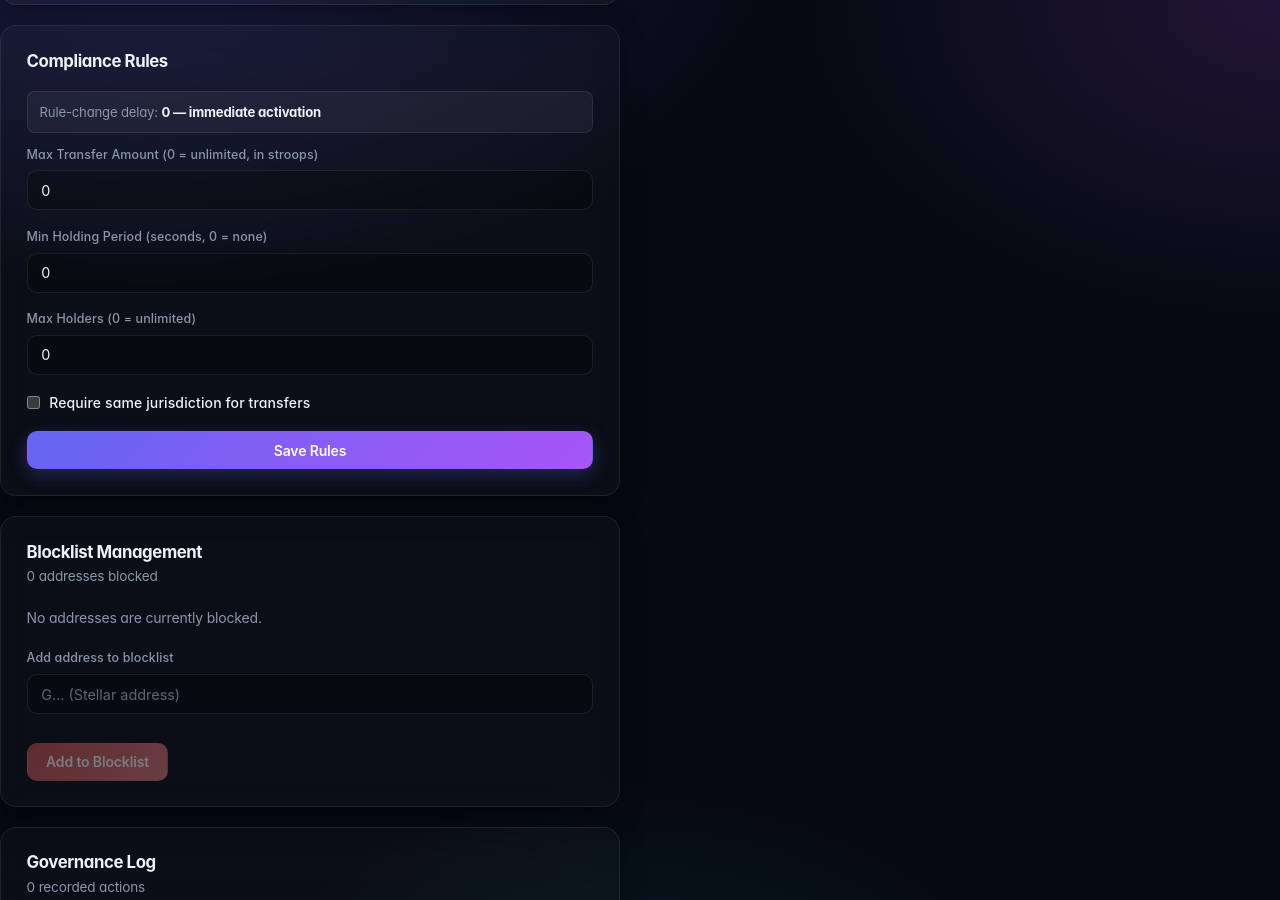
Scenario: AdminPage – compliance rules form › cancelling the dialog removes it from the DOM
(page scrolled)
What coordinates should you click on to do the following:
click the button "Save Rules"
I would click on:
 (310, 450)
Its box is [27,431,593,469].
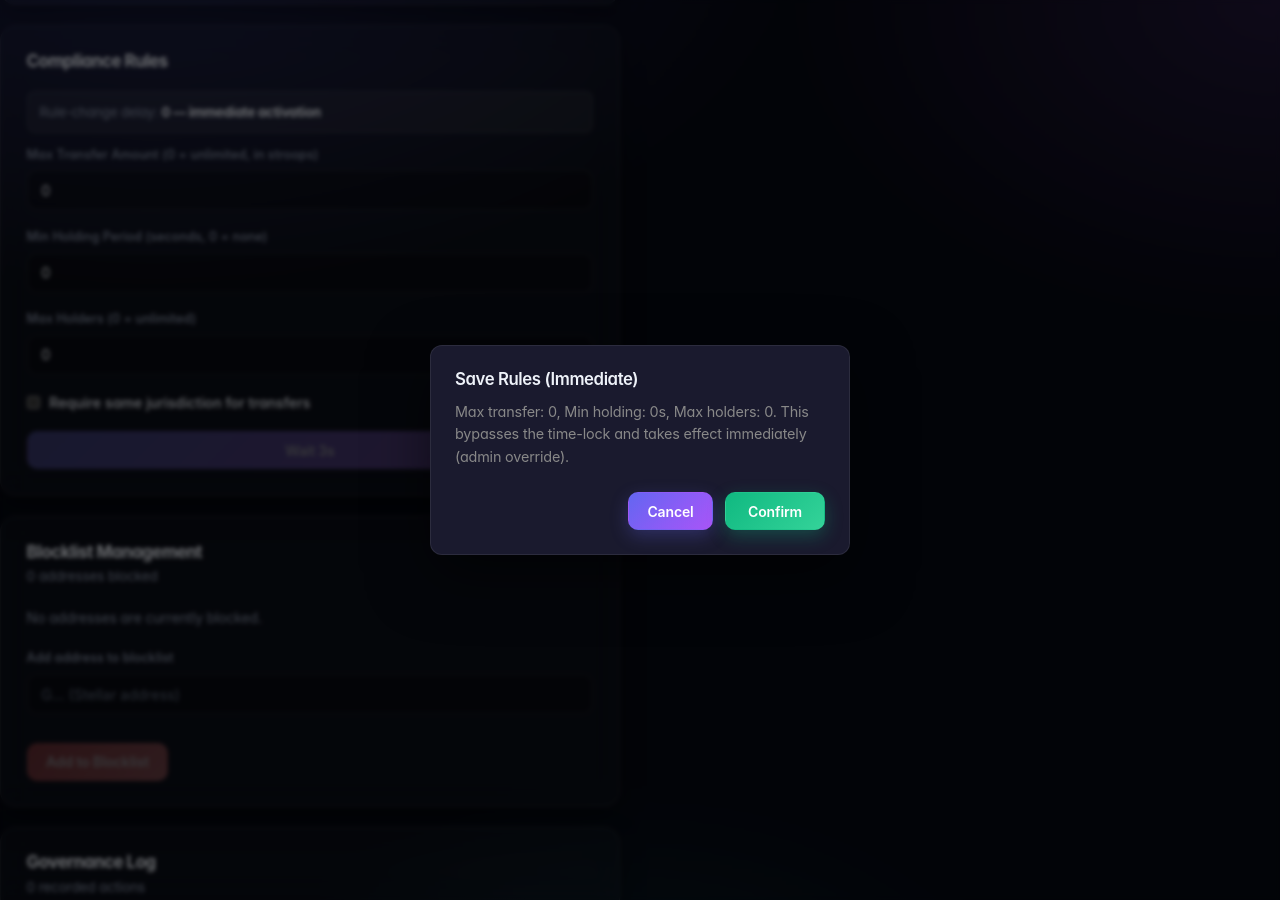
Result: the dialog is shown
What coordinates should you click on to do the following:
click the button "Cancel"
I would click on:
 (670, 511)
Its box is [628,492,713,530].
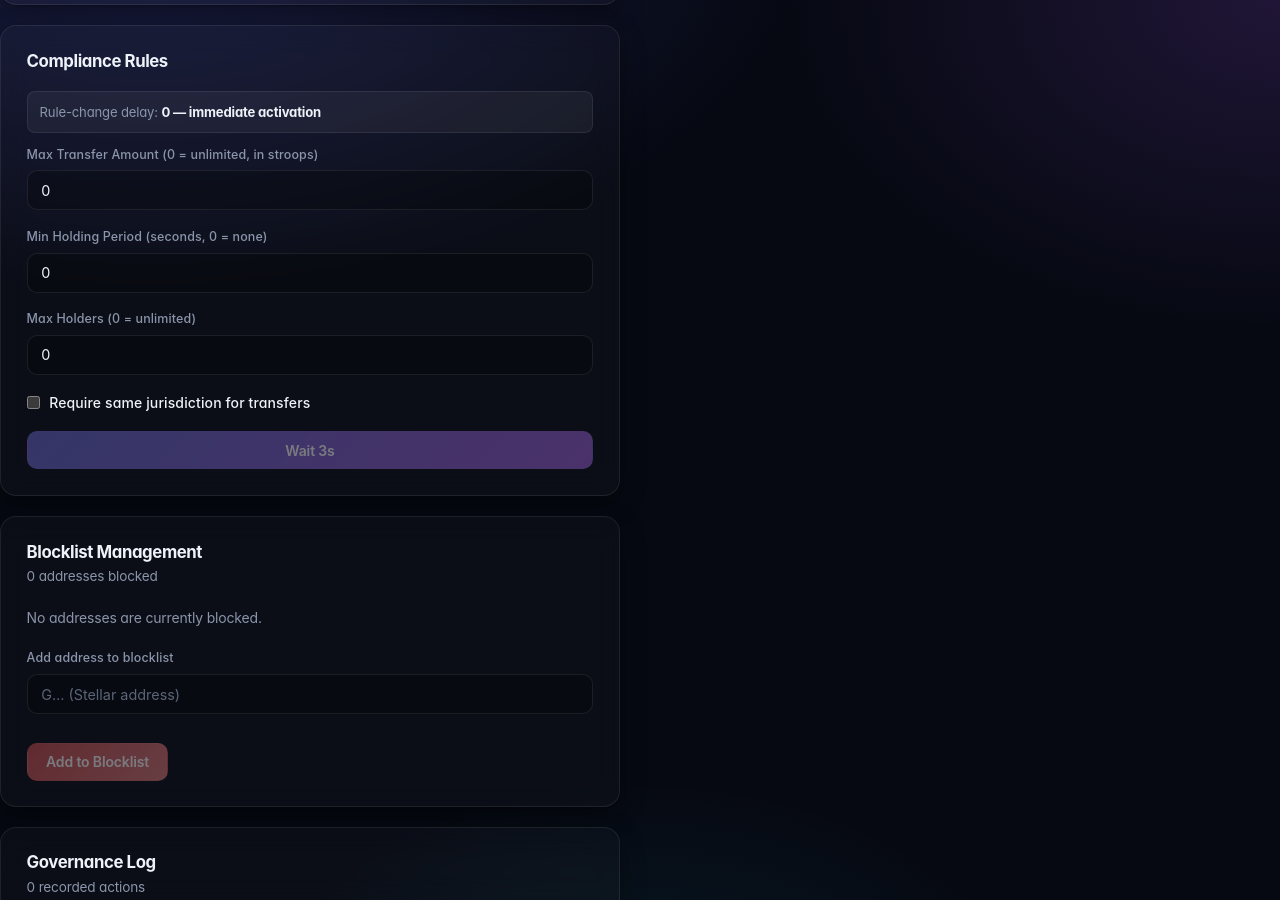
Result: the dialog is gone
